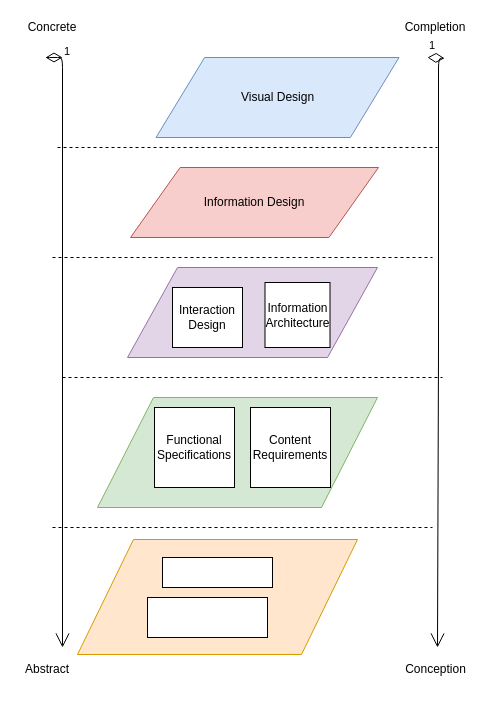
This 489x701 diagram has some shape labels left out. The shapes that lost their labels are listed below. From the top down, each one's box as (x1, y1, x2, y2) in pixels, then its label:
(162, 556, 272, 588): User Needs
(146, 596, 268, 638): Program Objectives
